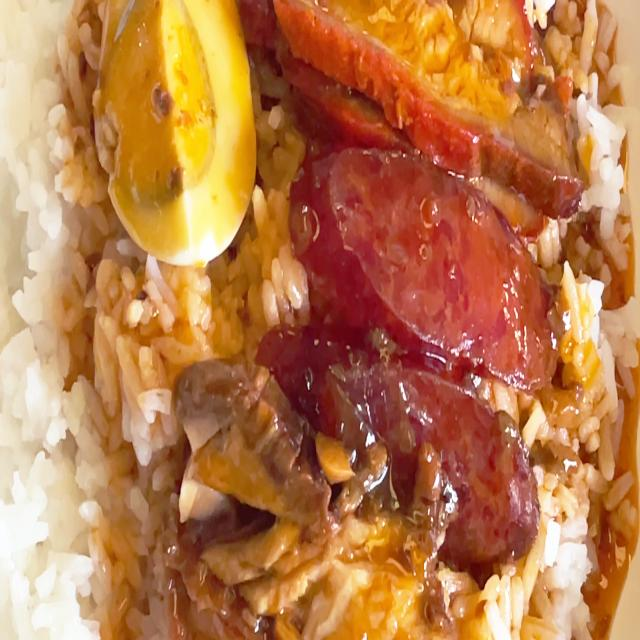boiled_egg: (101, 0, 249, 258)
chainese_sausage: (288, 160, 538, 551)
crispy_pork: (215, 535, 471, 640), (178, 358, 310, 554)
red_pork: (256, 0, 562, 181)
red_pork_and_crispy_pork: (0, 0, 640, 640)
rice: (0, 0, 98, 640), (89, 262, 173, 640)
